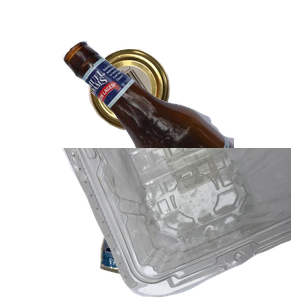glass: (60, 38, 300, 218)
metal: (86, 46, 248, 169)
plastic: (60, 148, 300, 300)
trash: (97, 152, 248, 300)
